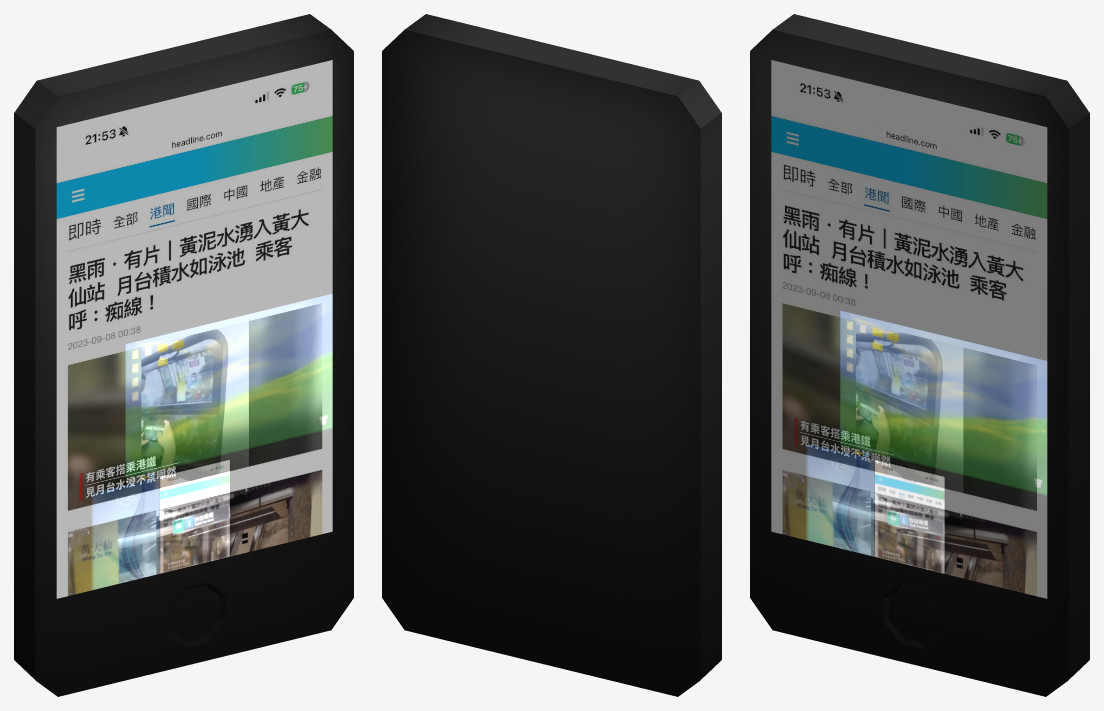
Rendered from CellPhone.fbx.
3 views of the same model, side by side, from view 1: azimuth 30°, elevation 25°; view 2: azimuth 150°, elevation 25°; view 3: azimuth 330°, elevation 25° (orthographic).
Visible parts, largest first — view 1: CellPhone; view 2: CellPhone; view 3: CellPhone.
Part boxes in pixels (x1,y1,x2,y2): CellPhone: (14,14,353,696); CellPhone: (382,14,721,696); CellPhone: (750,14,1089,696).
Bounding box in the file's own units: 7.86 × 14.17 × 0.9138.
